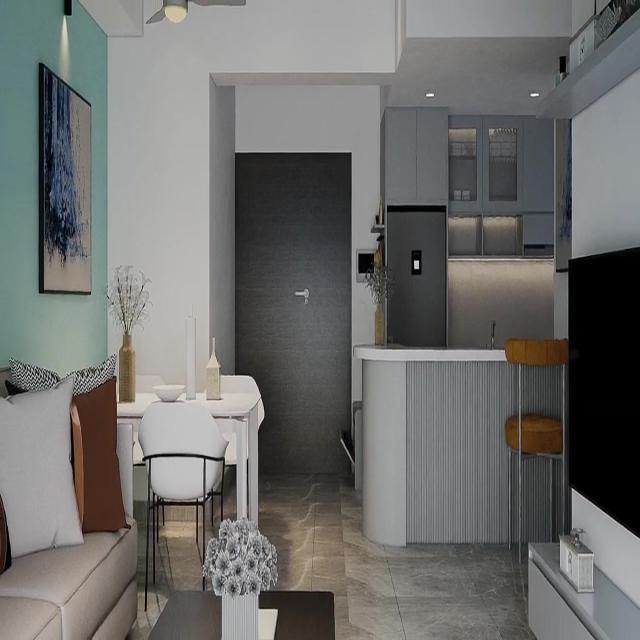door: (234, 151, 352, 476)
obstacle: (0, 356, 138, 638), (140, 399, 228, 618), (504, 336, 568, 564), (385, 205, 447, 346)
